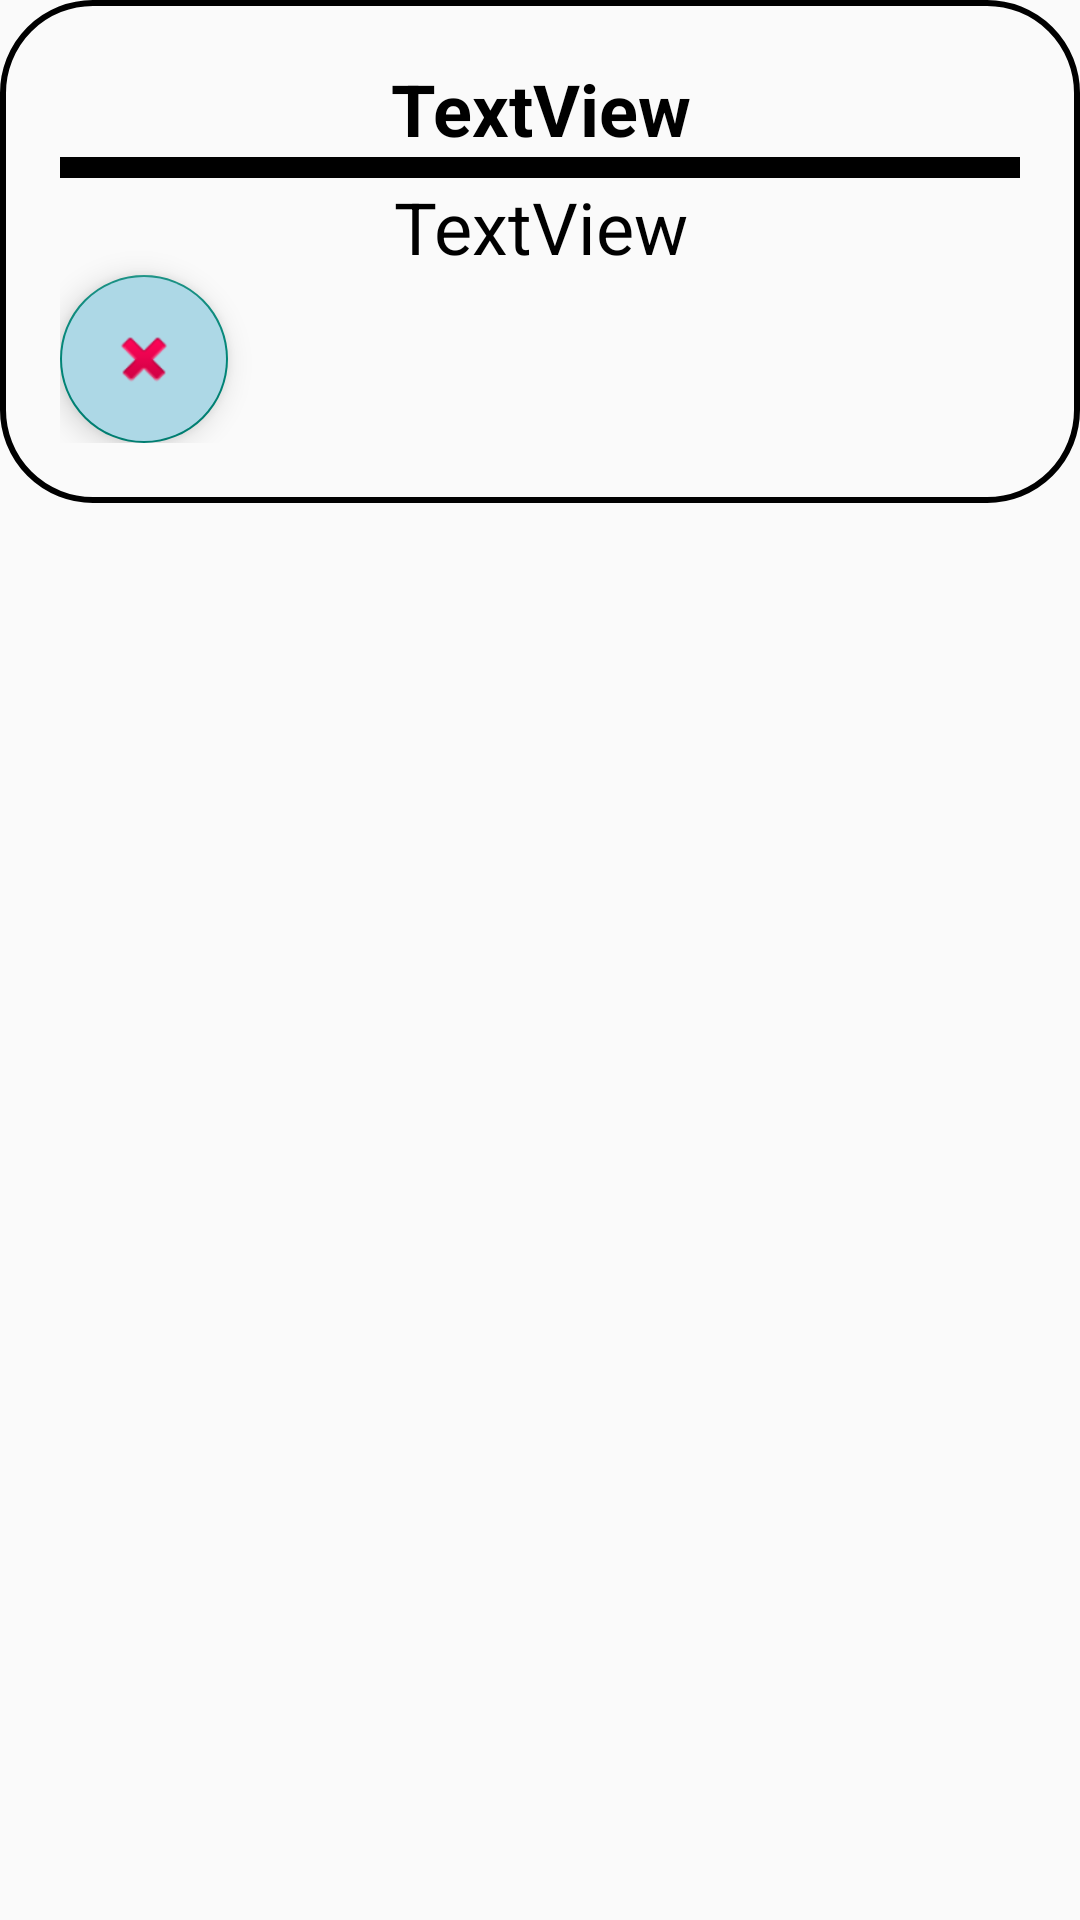

Icons on this 1080px x 1920px Android screen, each with the point to tap as [x,y]:
delete: [144,359]
